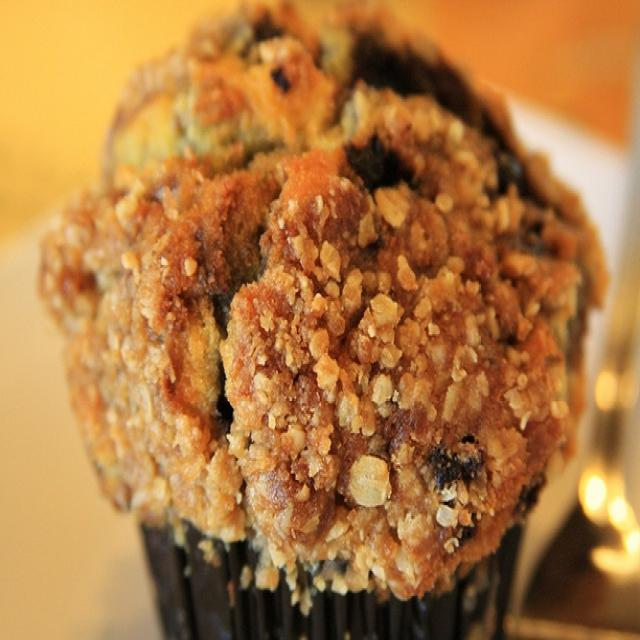炸货点心: (38, 13, 586, 629)
面包点心: (38, 13, 586, 629)
